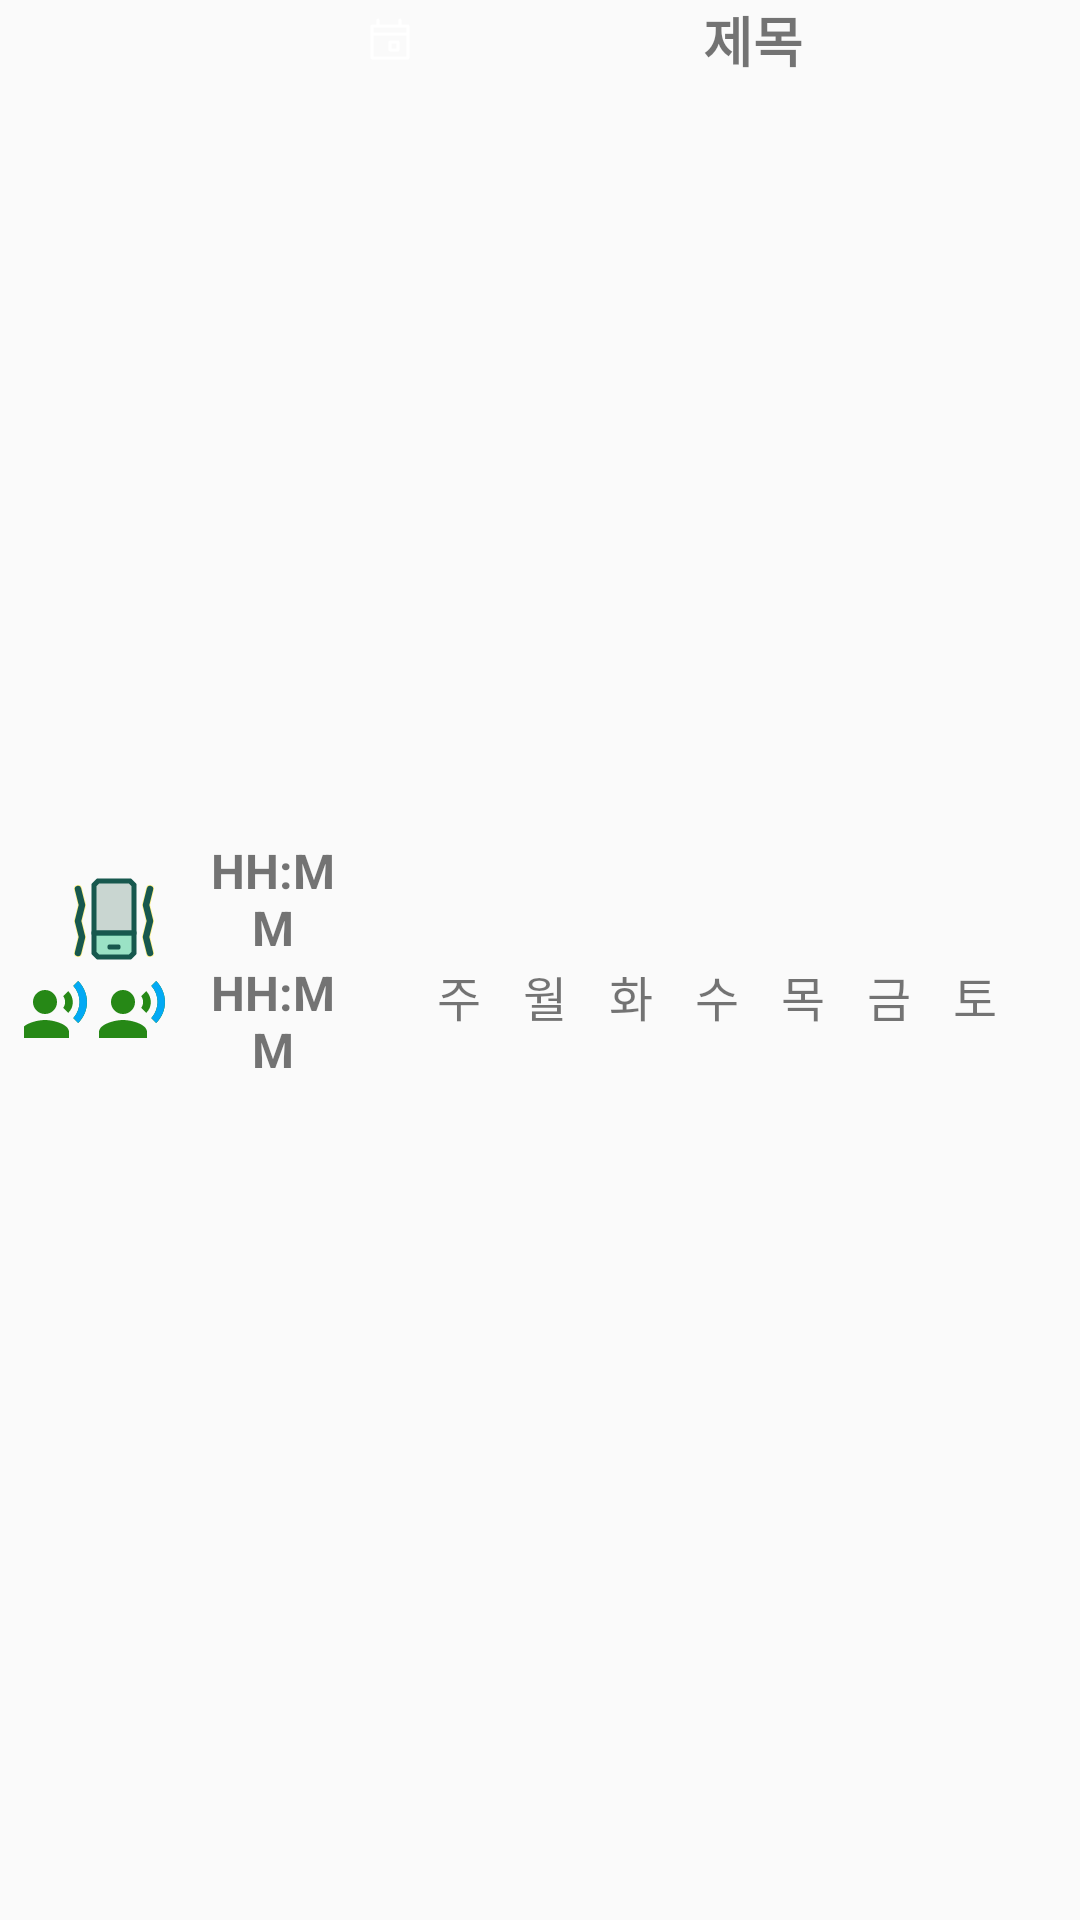

Icon bounding boxes for this 1080×1920 phone screenshot, format (left=x1, top=y1, right=x2, bottom=y2):
phone vibrate: (left=74, top=878, right=154, bottom=960)
speak on: (left=24, top=981, right=87, bottom=1038), (left=99, top=981, right=165, bottom=1038)
